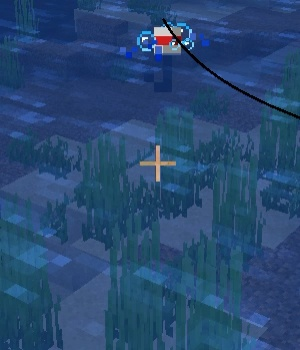up: (146, 20, 188, 92)
